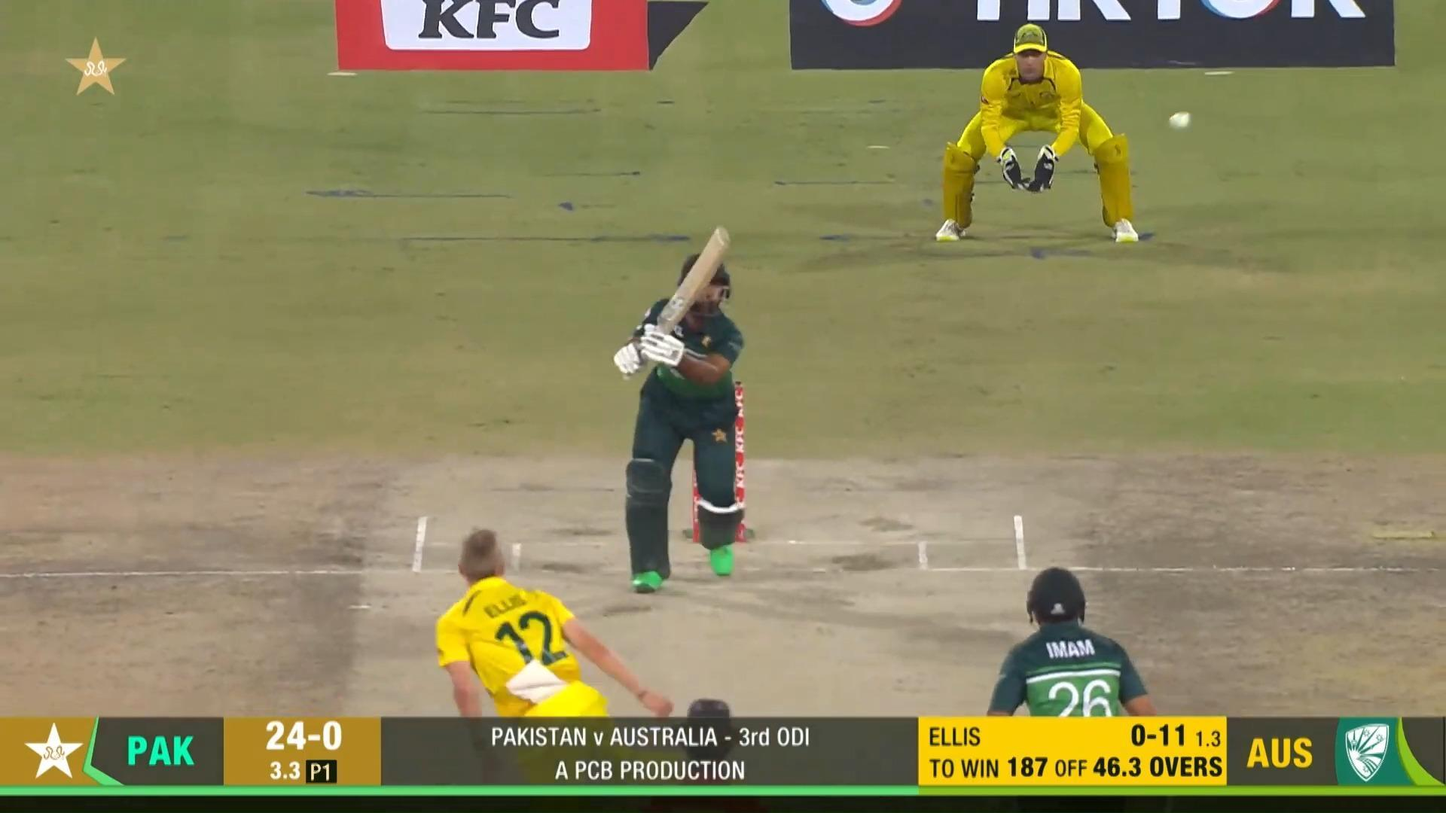BM 1: (614, 226, 746, 593)
BO: (434, 525, 676, 779)
